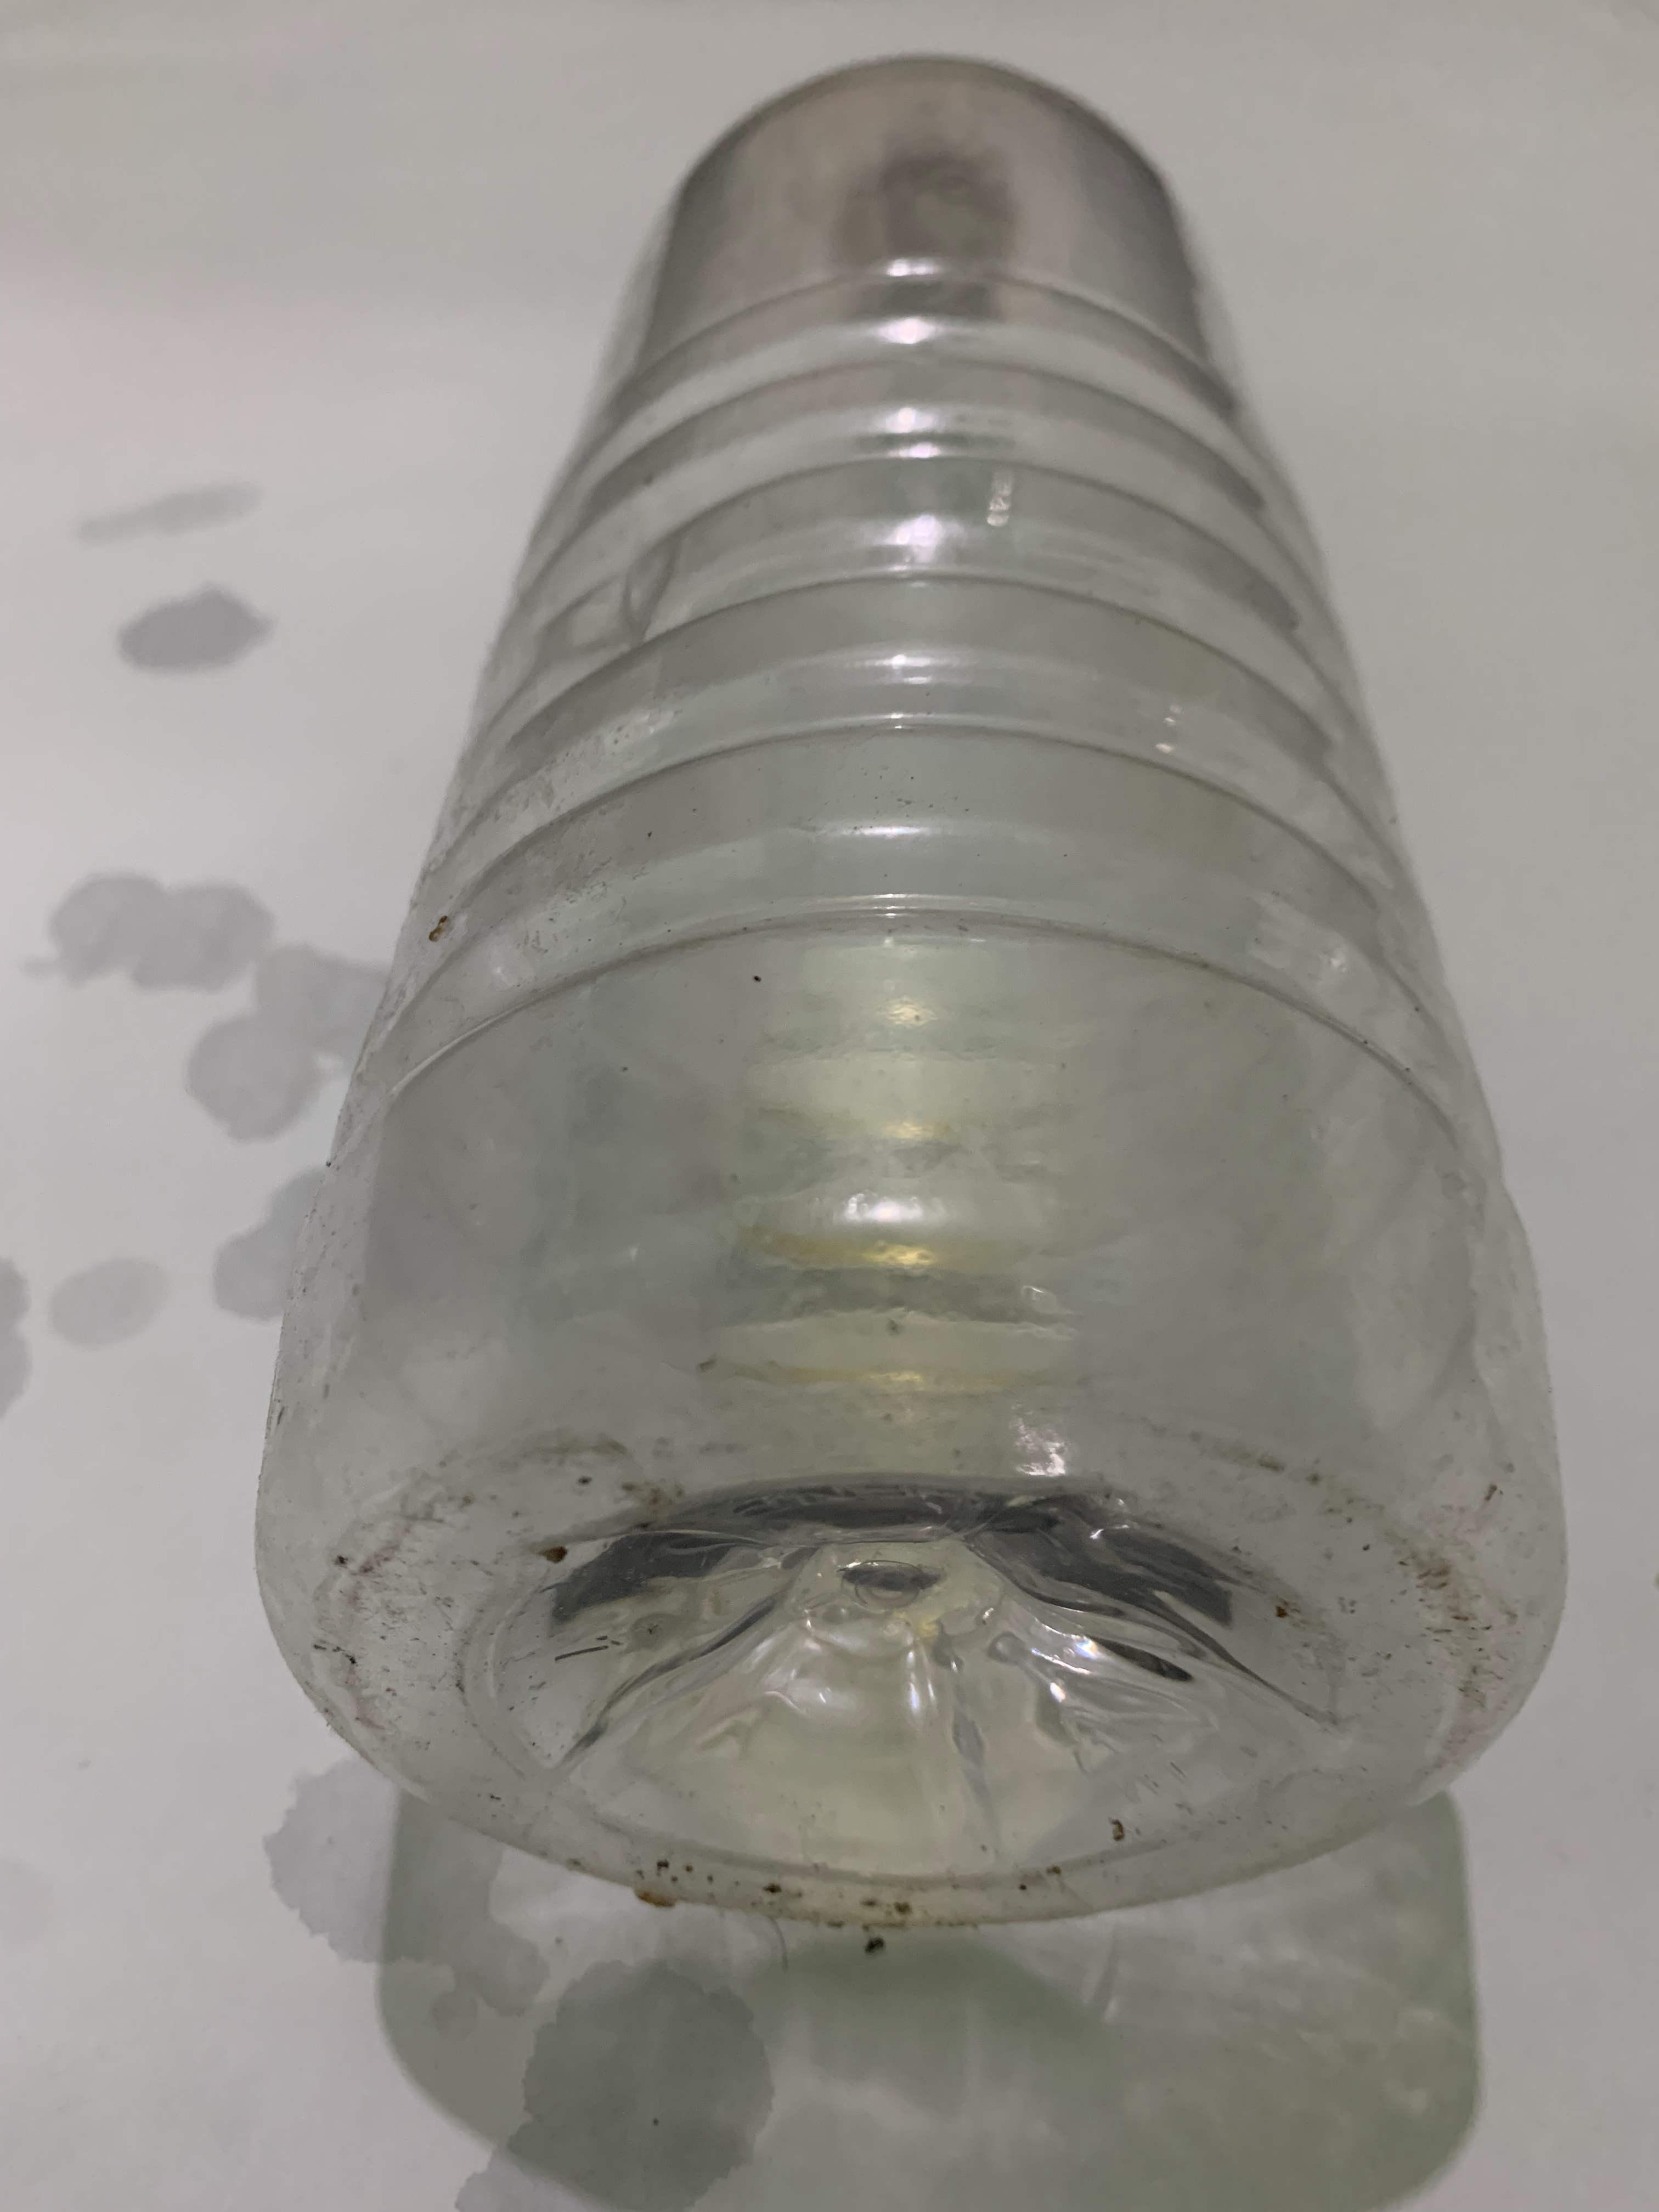bottle: (0, 0, 744, 1858)
